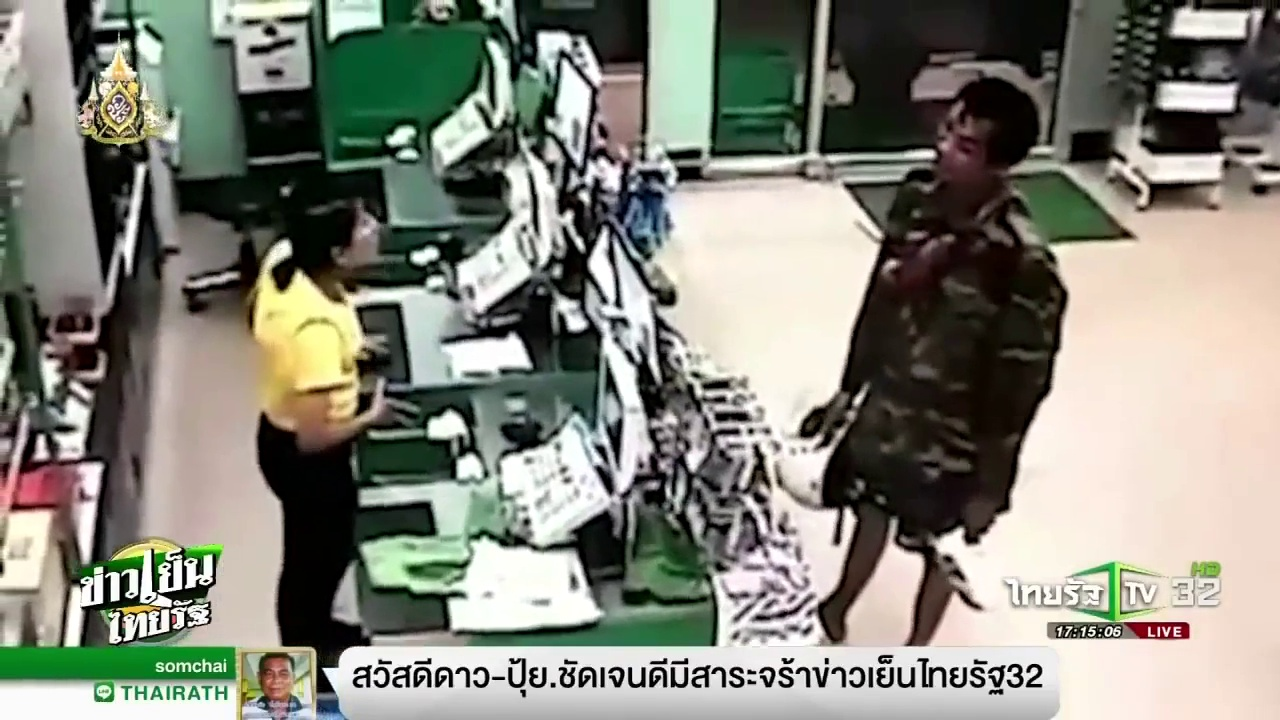helmet: (775, 380, 870, 515)
